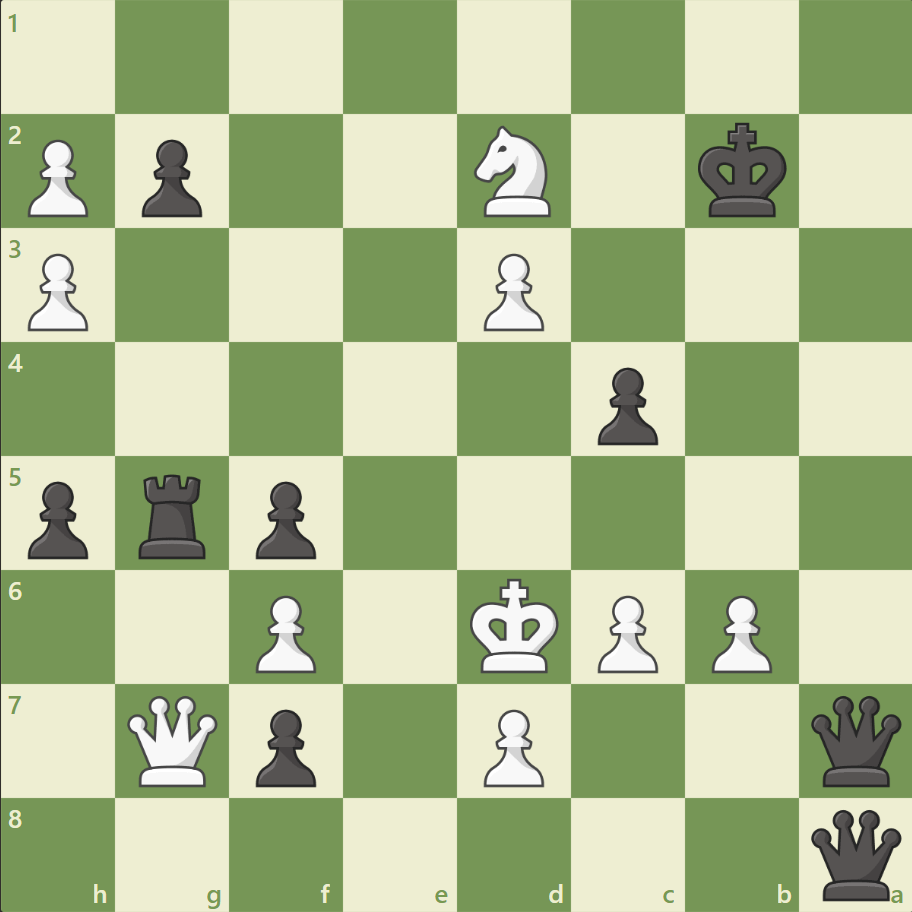K: (465, 571, 565, 679)
N: (465, 121, 562, 223)
P: (474, 700, 549, 791), (701, 586, 776, 677), (247, 586, 322, 677), (474, 246, 549, 337), (20, 246, 95, 337), (20, 132, 95, 223), (588, 586, 662, 677)
Q: (124, 690, 223, 789)
k: (692, 117, 792, 225)
p: (247, 700, 322, 791), (247, 473, 322, 564), (20, 473, 95, 564), (133, 132, 208, 223), (588, 359, 662, 450)
q: (805, 804, 904, 903), (805, 690, 904, 789)
r: (133, 466, 215, 563)
